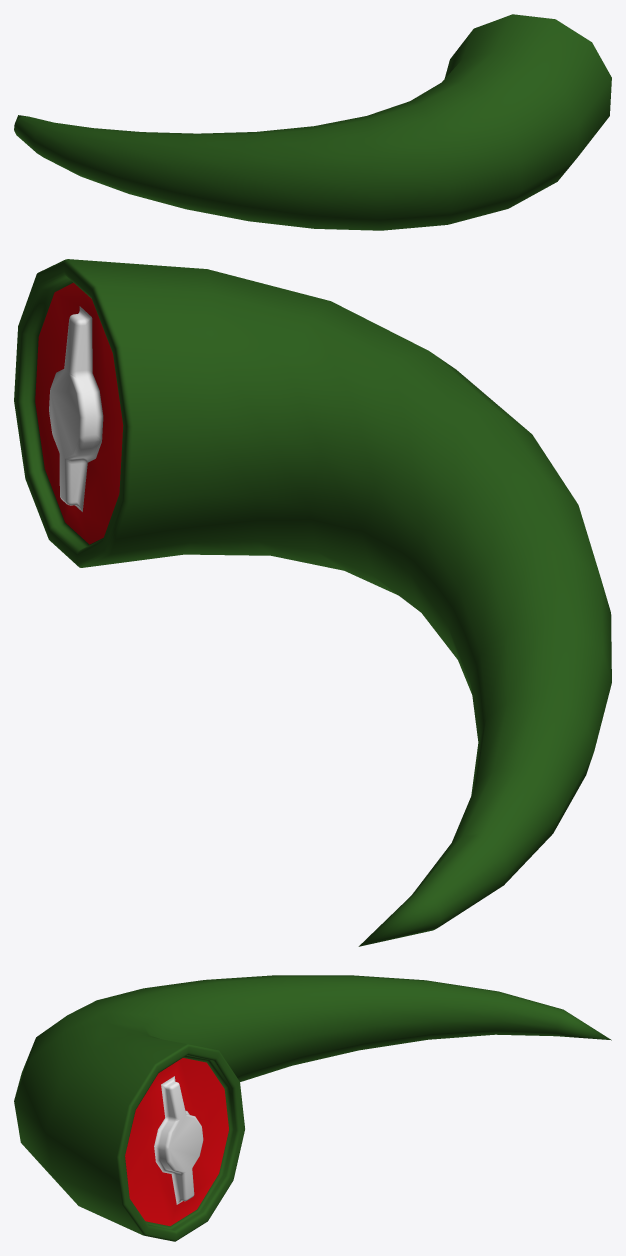
The model's file is Item_Tail.fbx.
3 views of the same model, one above another, from view 1: azimuth 30°, elevation 25°; view 2: azimuth 150°, elevation 25°; view 3: azimuth 270°, elevation 25° (orthographic). The views are drawn at different scales.
Parts seen in each view (by area): view 1: BezierCurve; view 2: BezierCurve; view 3: BezierCurve.
Part boxes in pixels (bbox=[...]): BezierCurve: bbox=[14, 14, 611, 230]; BezierCurve: bbox=[14, 259, 611, 946]; BezierCurve: bbox=[14, 975, 611, 1241].
Size of the model in its own units: 225 by 78.9 by 229.
